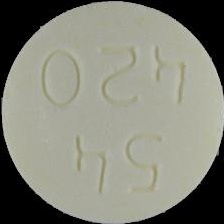69189-4581: (0, 0, 224, 224)
